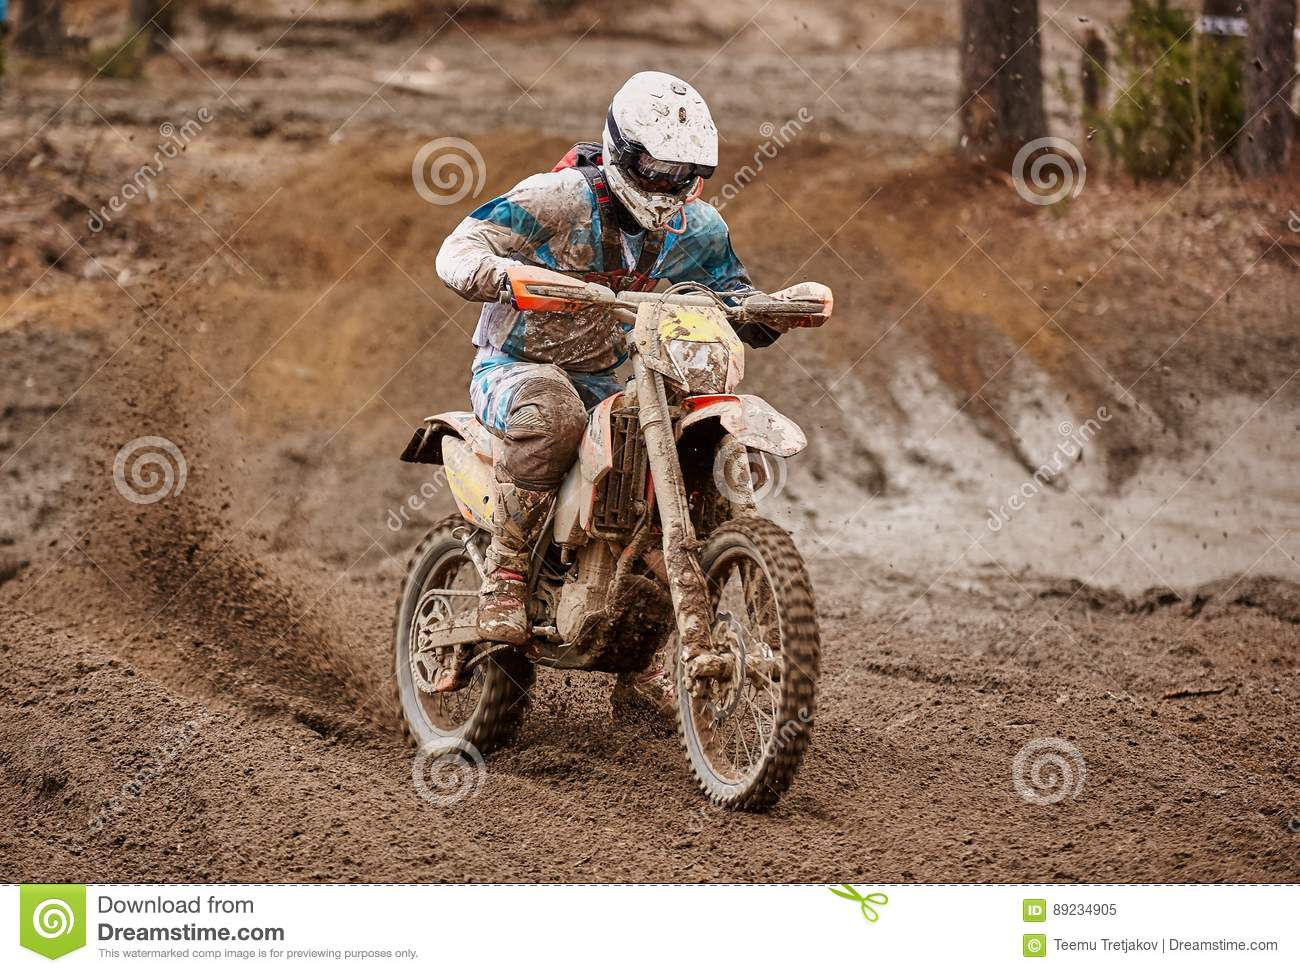helmet: (599, 74, 721, 227)
